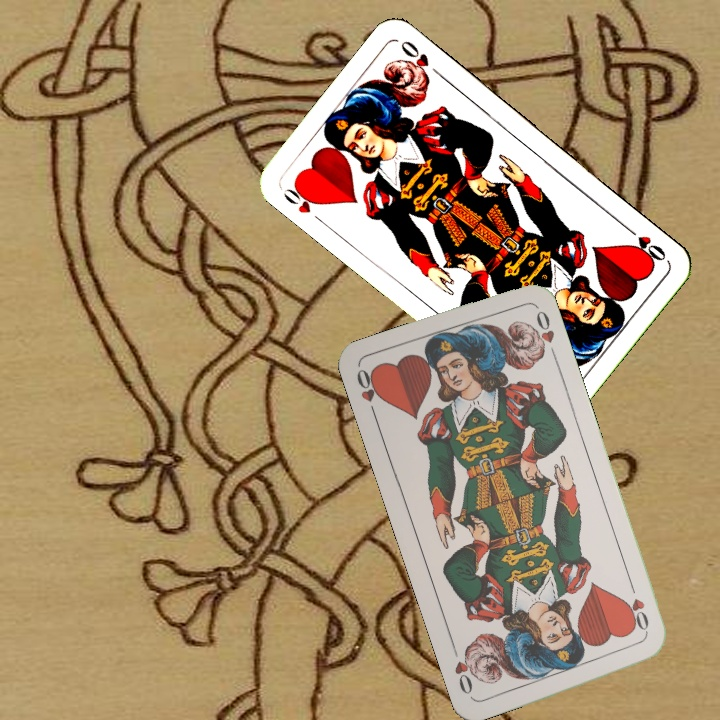HO: (279, 179, 327, 227), (620, 221, 669, 264), (620, 579, 652, 637), (352, 365, 384, 423)
